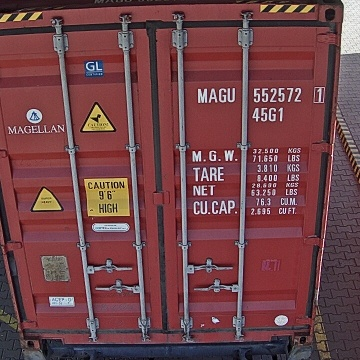serial_id: (198, 87, 324, 103)
